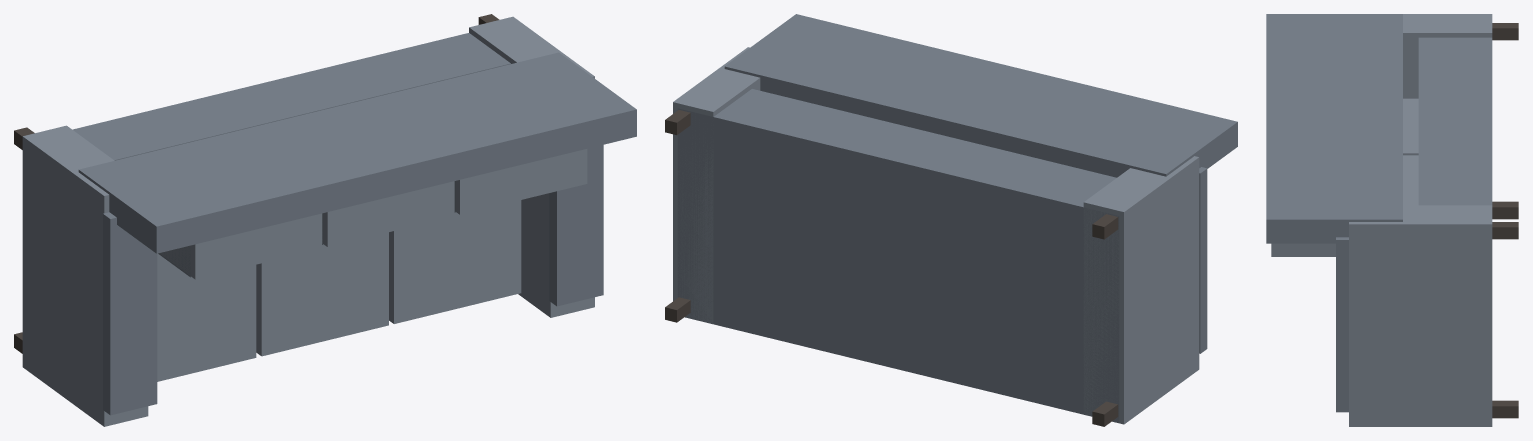
The model's file is sofa_model.glb.
3 views of the same model, side by side, from view 1: azimuth 30°, elevation 25°; view 2: azimuth 150°, elevation 25°; view 3: azimuth 270°, elevation 25° (orthographic). The views are drawn at different scales.
Parts seen in each view (by area): view 1: back_frame, arm_left, frame_base, seat_cushion_2, seat_cushion_1, seat_cushion_0, arm_left_pad, arm_right_pad, arm_right, back_cushion_0, back_cushion_2, back_cushion_1; view 2: frame_base, back_frame, arm_left, arm_right, arm_left_pad; view 3: arm_right, back_frame, frame_base, arm_left, arm_right_pad, seat_cushion_0, back_cushion_2, seat_cushion_1, leg_0, leg_1, leg_2, leg_3.
Part boxes in pixels (x1,y1,x2,y2): back_frame: [78, 52, 636, 253]; arm_left: [22, 125, 148, 426]; frame_base: [72, 33, 510, 160]; seat_cushion_2: [389, 200, 521, 323]; seat_cushion_1: [256, 232, 388, 356]; seat_cushion_0: [157, 253, 256, 381]; arm_left_pad: [103, 212, 157, 415]; arm_right_pad: [549, 145, 603, 306]; arm_right: [469, 16, 594, 317]; back_cushion_0: [159, 213, 322, 279]; back_cushion_2: [455, 149, 587, 214]; back_cushion_1: [322, 181, 454, 246]; frame_base: [677, 89, 1119, 423]; back_frame: [724, 14, 1237, 177]; arm_left: [1083, 156, 1199, 424]; arm_right: [673, 47, 760, 324]; arm_left_pad: [1199, 167, 1207, 353]; arm_right: [1349, 205, 1492, 426]; back_frame: [1266, 14, 1402, 243]; frame_base: [1418, 37, 1492, 205]; arm_left: [1403, 14, 1492, 98]; arm_right_pad: [1336, 237, 1348, 412]; seat_cushion_0: [1403, 98, 1418, 155]; back_cushion_2: [1271, 243, 1335, 256]; seat_cushion_1: [1403, 155, 1418, 205]; leg_0: [1492, 201, 1518, 219]; leg_1: [1492, 400, 1518, 418]; leg_2: [1492, 23, 1518, 40]; leg_3: [1492, 222, 1518, 239].
Size of the model in its own units: 1.9 by 0.86 by 0.96.
